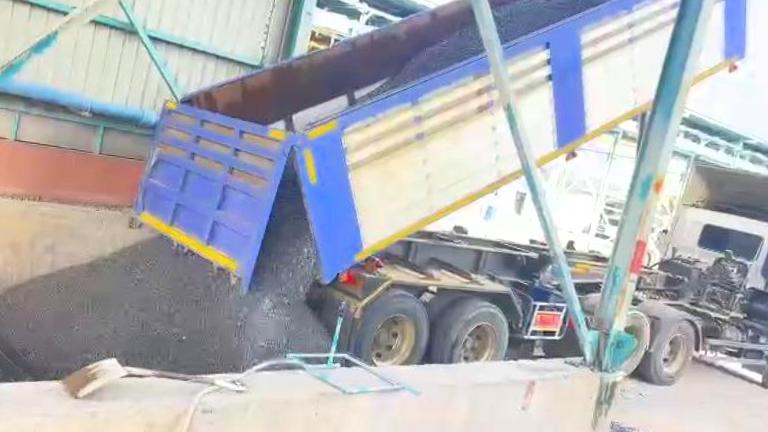gravel: (0, 167, 329, 377), (362, 24, 483, 102), (493, 0, 631, 43), (582, 423, 717, 432)
